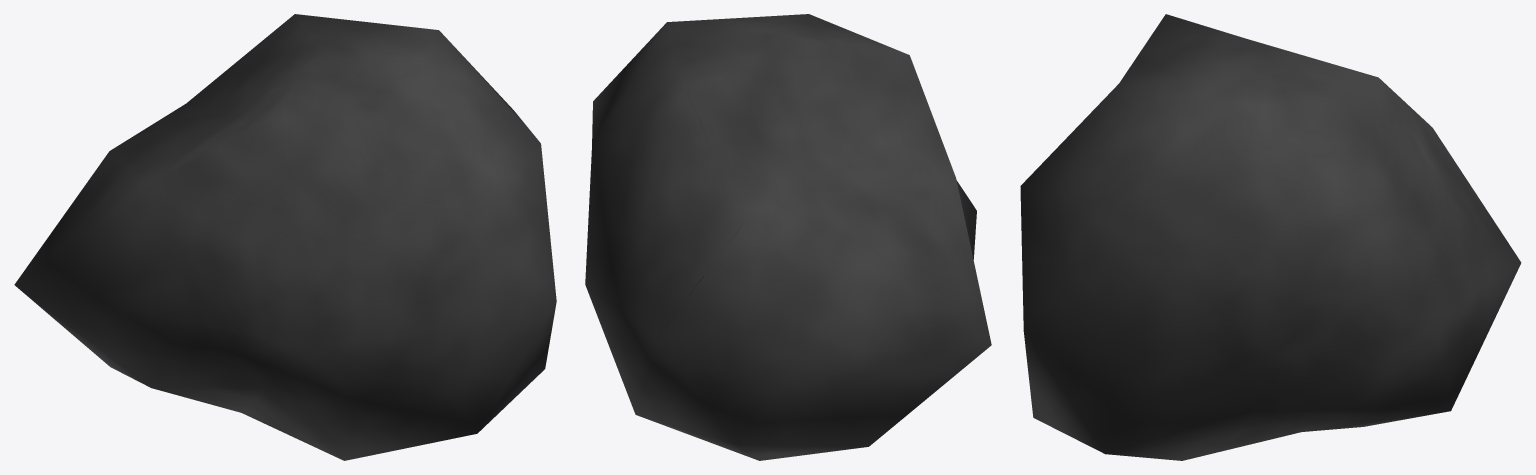
The model's file is RockSmall1.fbx.
3 views of the same model, side by side, from view 1: azimuth 30°, elevation 25°; view 2: azimuth 150°, elevation 25°; view 3: azimuth 270°, elevation 25° (orthographic). The views are drawn at different scales.
Visible parts, largest first — view 1: RockSmall1.2; view 2: RockSmall1.2; view 3: RockSmall1.2.
Boxes of the visible parts, left/top/right/bottom form: RockSmall1.2: left=14, top=14, right=556, bottom=460; RockSmall1.2: left=585, top=14, right=991, bottom=460; RockSmall1.2: left=1020, top=14, right=1521, bottom=460.
Size of the model in its own units: 71.38 by 57.05 by 64.09.
Materials: 1 (1 with a texture image).
